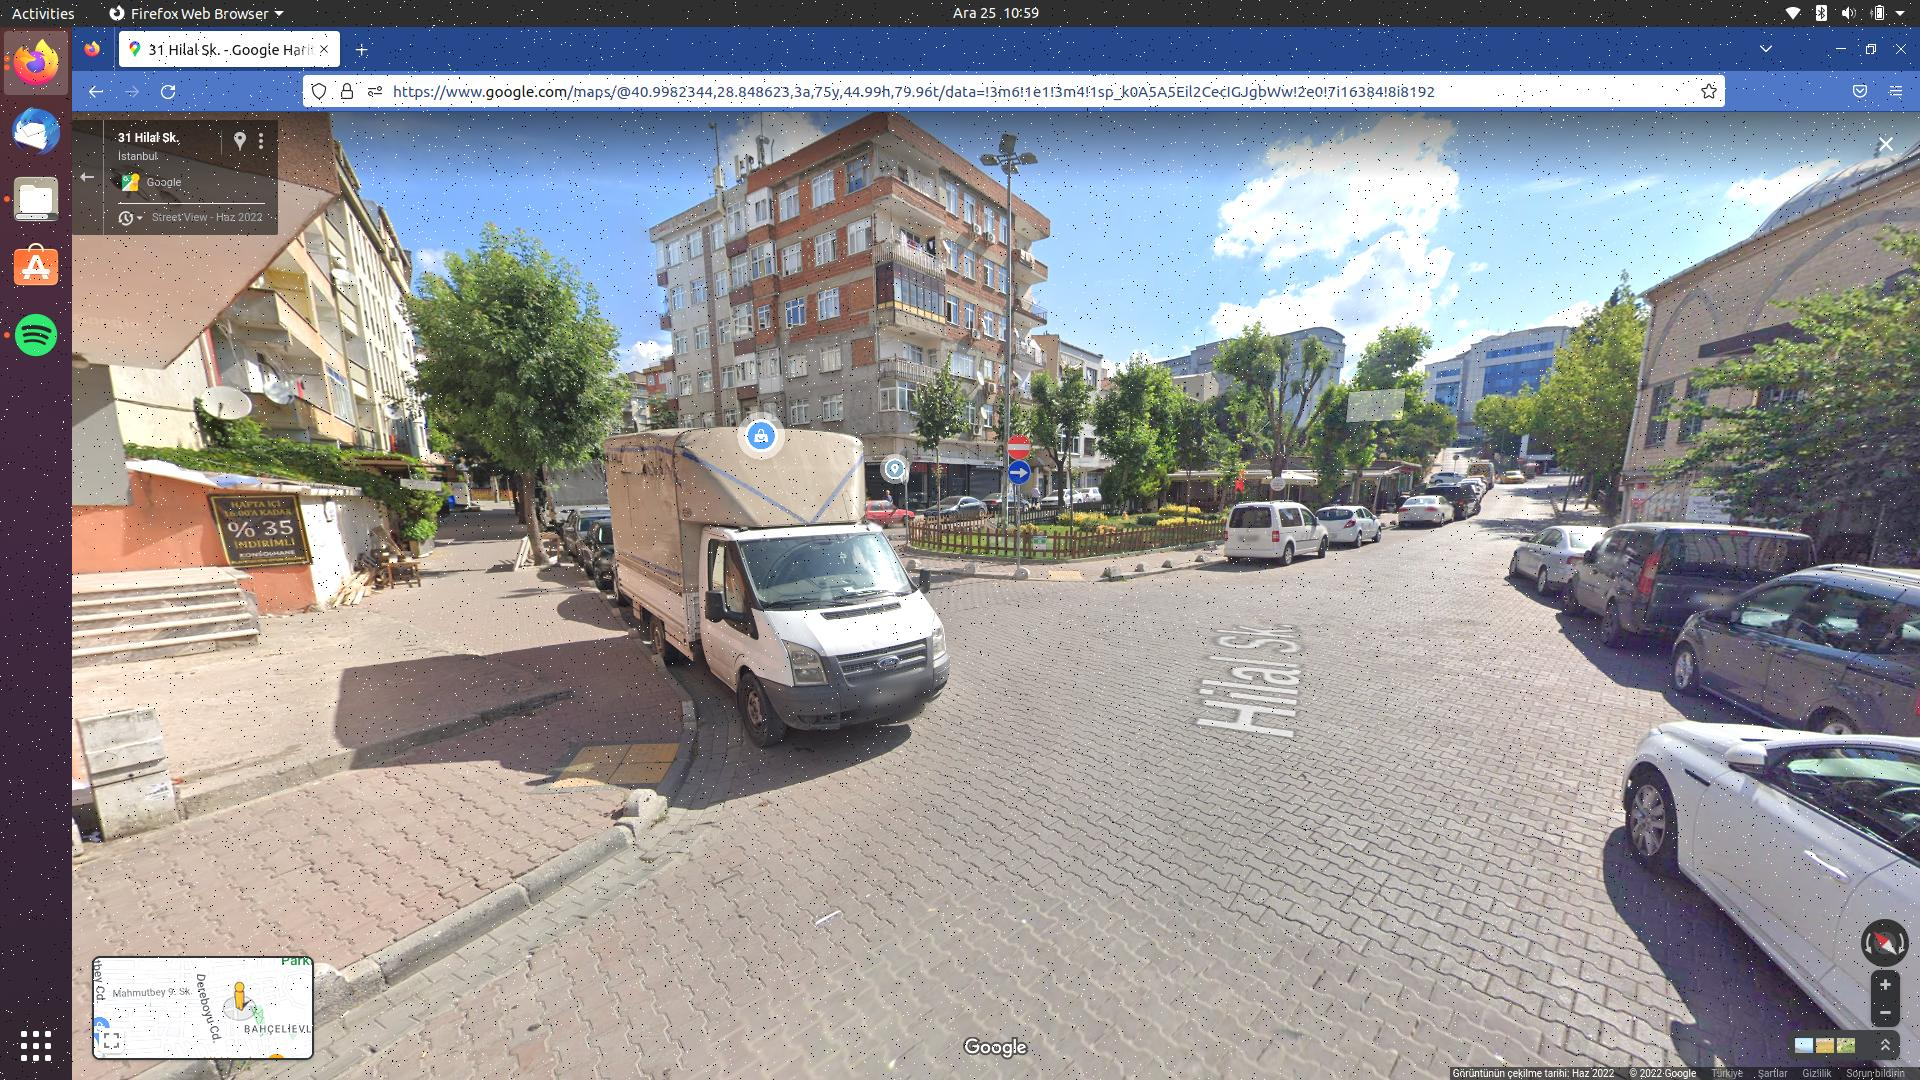turnright: (1005, 459, 1040, 492)
